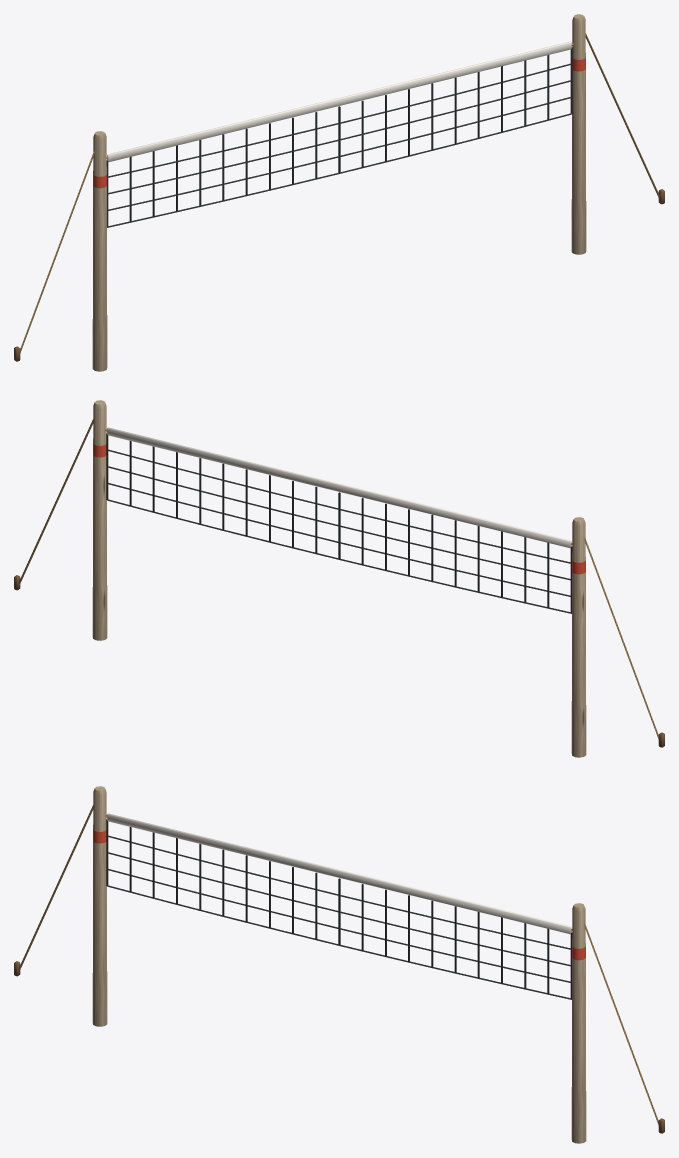
The model's file is volleyball-net.glb.
3 renders of one model, top to bottom at view 1: azimuth 30°, elevation 25°; view 2: azimuth 150°, elevation 25°; view 3: azimuth 330°, elevation 25°, orthographic.
Parts seen in each view (by area): view 1: volleyball-net; view 2: volleyball-net; view 3: volleyball-net.
Boxes of the visible parts, box(x1,y1,x2,y2) form: volleyball-net: box(14, 14, 664, 371); volleyball-net: box(14, 400, 664, 757); volleyball-net: box(14, 786, 664, 1143).
Size of the model in its own units: 7.05 by 2.44 by 0.14.
Materials: 3 (2 with a texture image).
